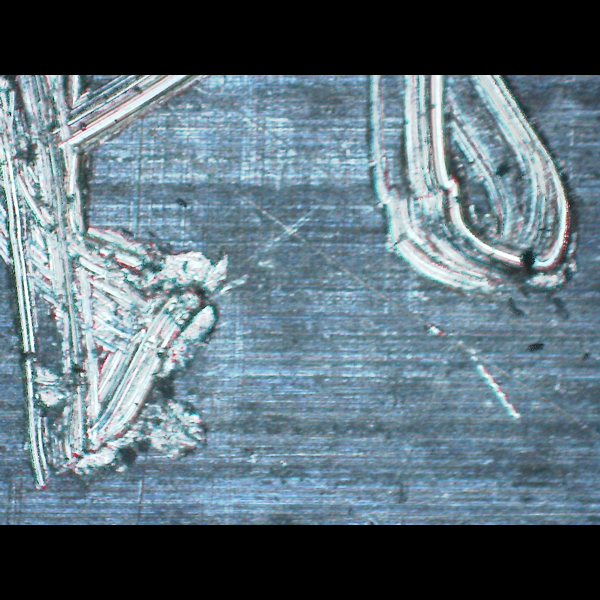d: (0, 74, 247, 502), (340, 75, 588, 311)
